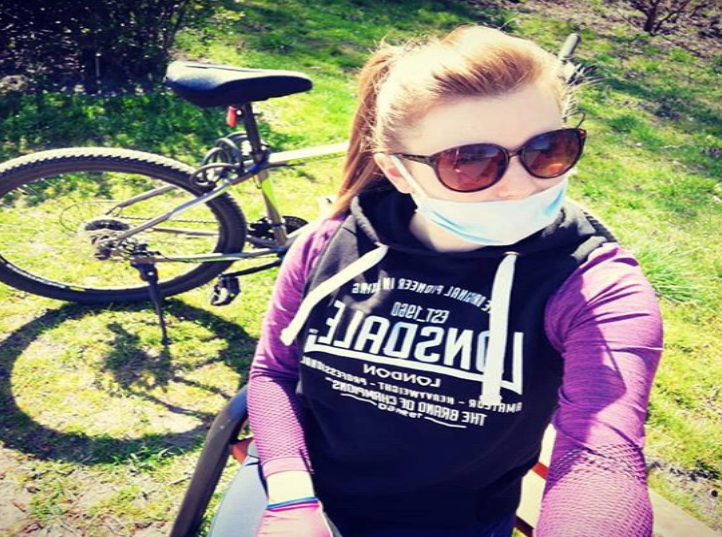mask_weared_incorrect: (362, 30, 592, 249)
